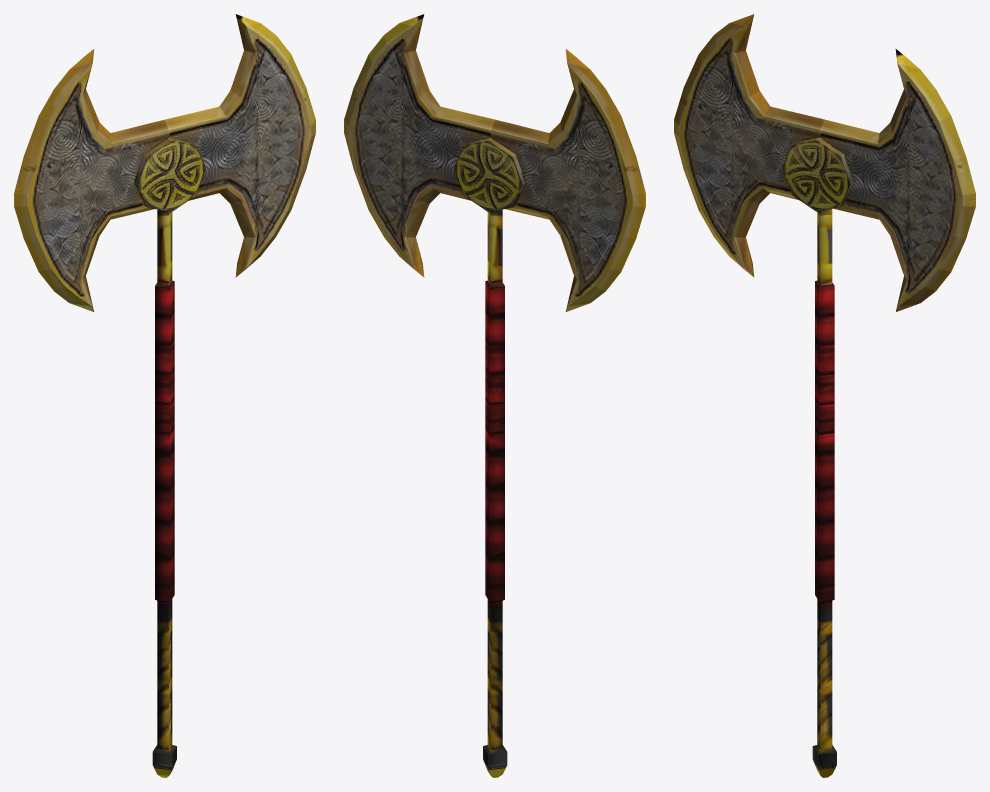
File: AxeWar2.FBX
3 renders of one model, left to right at view 1: azimuth 30°, elevation 25°; view 2: azimuth 150°, elevation 25°; view 3: azimuth 330°, elevation 25°, orthographic.
Parts seen in each view (by area): view 1: axe1; view 2: axe1; view 3: axe1.
Part boxes in pixels (box(x1,y1,x2,y2)): axe1: box(14, 14, 315, 777); axe1: box(344, 14, 645, 777); axe1: box(674, 14, 975, 777).
Size of the model in its own units: 93.17 by 8.22 by 220.
